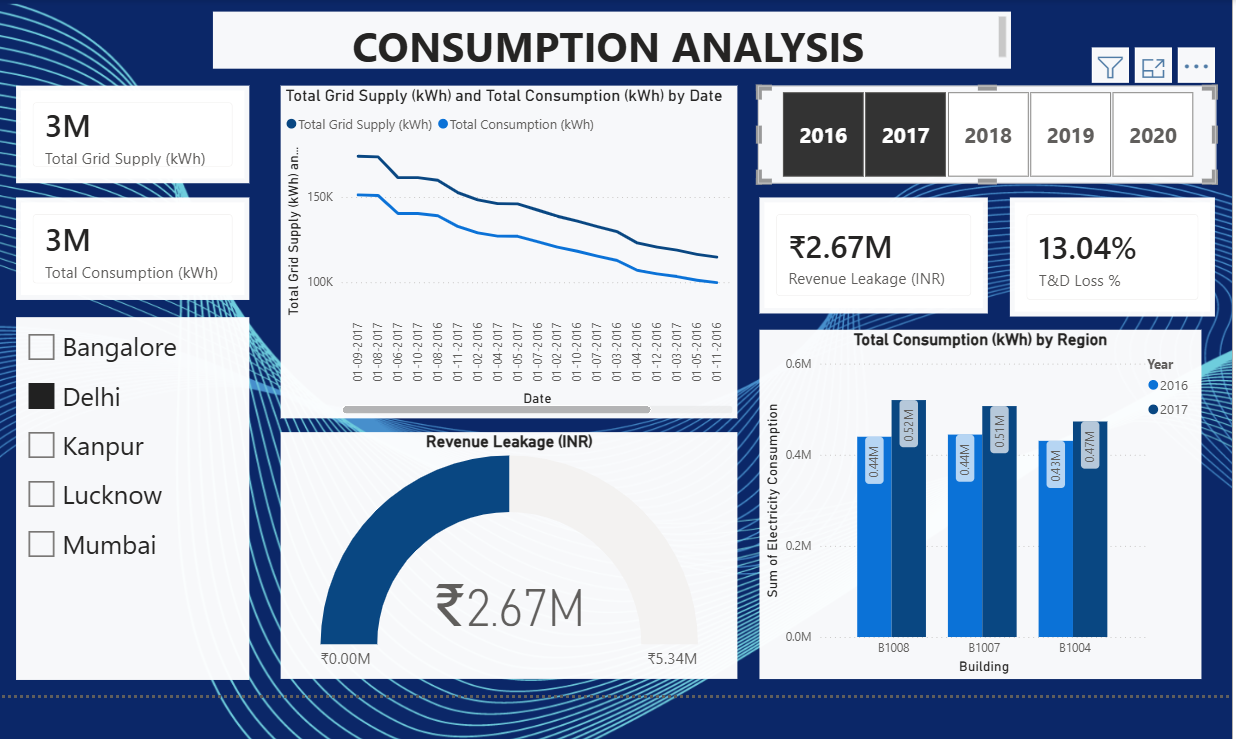

The page's visual inventory and layout, read from the dashboard file:
{"tool":"powerbi","page":{"name":"Page 1","canvas":[1280,720],"ordinal":0},"visuals":[{"type":"slicer","fields":{"Values":["Rates.Year"]},"box":[789.4,89,474.3,101],"z":0},{"type":"slicer","fields":{"Values":["Building Master.City"]},"box":[22.3,328.8,241.4,375],"z":1},{"type":"cardVisual","fields":{"Data":["Measures (2).Total Grid Supply (kWh)"]},"box":[22.3,89,241.4,101],"z":2},{"type":"cardVisual","fields":{"Data":["Measures (2).Total Consumption (kWh)"]},"box":[22.3,205.5,241.4,106.2],"z":3},{"type":"cardVisual","fields":{"Data":["Measures (2).T&D Loss %"]},"box":[1051.4,205.5,212.3,123.3],"z":4},{"type":"cardVisual","fields":{"Data":["Measures (2).Revenue Leakage (INR)"]},"box":[791.1,205.5,236.3,119.9],"z":5},{"type":"lineChart","fields":{"Category":["Energy Consumptions.Date"],"Y":["Measures (2).Total Grid Supply (kWh)","Measures (2).Total Consumption (kWh)"]},"box":[296.2,89,472.6,344.2],"z":6},{"type":"gauge","fields":{"Y":["Measures (2).Revenue Leakage (INR)"]},"box":[296.2,448.6,472.6,255.1],"z":7},{"type":"lineClusteredColumnComboChart","title":"Total Consumption (kWh) by Region","fields":{"Category":["Energy Consumptions.Building"],"Y":["Sum(Energy Consumptions.Electricity Consumption)"],"Series":["Energy Consumptions.Year"]},"box":[791.1,342.5,457.2,361.3],"z":8},{"type":"textbox","box":[226.5,13.8,825.4,59.1],"z":9}]}

Visuals, with their boxes in screenshot pixels (x1, y1, x2, y2):
slicer - Rates.Year: {"x1": 766, "y1": 81, "x2": 1235, "y2": 181}
slicer - Building Master.City: {"x1": 9, "y1": 318, "x2": 247, "y2": 688}
cardVisual - Measures (2).Total Grid Supply (kWh): {"x1": 9, "y1": 81, "x2": 247, "y2": 181}
cardVisual - Measures (2).Total Consumption (kWh): {"x1": 9, "y1": 196, "x2": 247, "y2": 301}
cardVisual - Measures (2).T&D Loss %: {"x1": 1025, "y1": 196, "x2": 1235, "y2": 318}
cardVisual - Measures (2).Revenue Leakage (INR): {"x1": 768, "y1": 196, "x2": 1001, "y2": 315}
lineChart - Energy Consumptions.Date x Measures (2).Total Grid Supply (kWh): {"x1": 280, "y1": 81, "x2": 746, "y2": 421}
gauge - Measures (2).Revenue Leakage (INR): {"x1": 280, "y1": 436, "x2": 746, "y2": 688}
"Total Consumption (kWh) by Region" lineClusteredColumnComboChart: {"x1": 768, "y1": 332, "x2": 1220, "y2": 688}
textbox: {"x1": 211, "y1": 7, "x2": 1026, "y2": 66}
